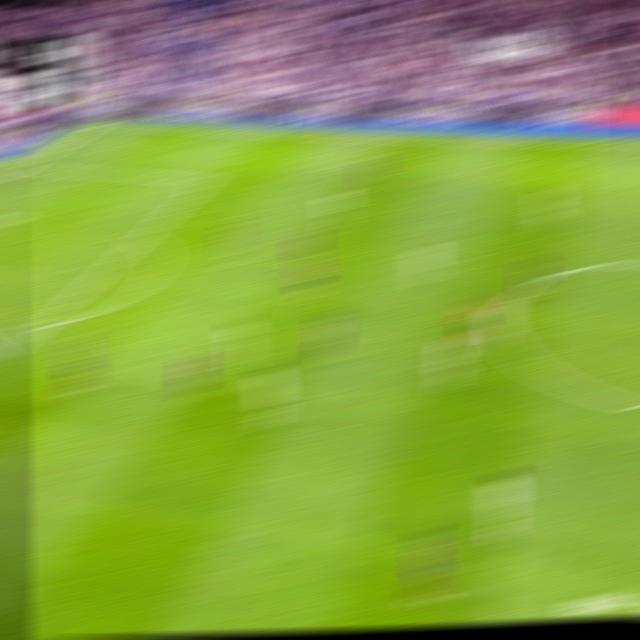bigarea_top_inner: (195, 173, 216, 186)
bigarea_top_outter: (17, 159, 40, 171)
bottom_arc_area_intersection: (28, 317, 54, 335)
corner: (90, 119, 113, 126)
smallarea_top_inner: (3, 213, 24, 222)
top_arc_area_intersection: (131, 228, 154, 242)
